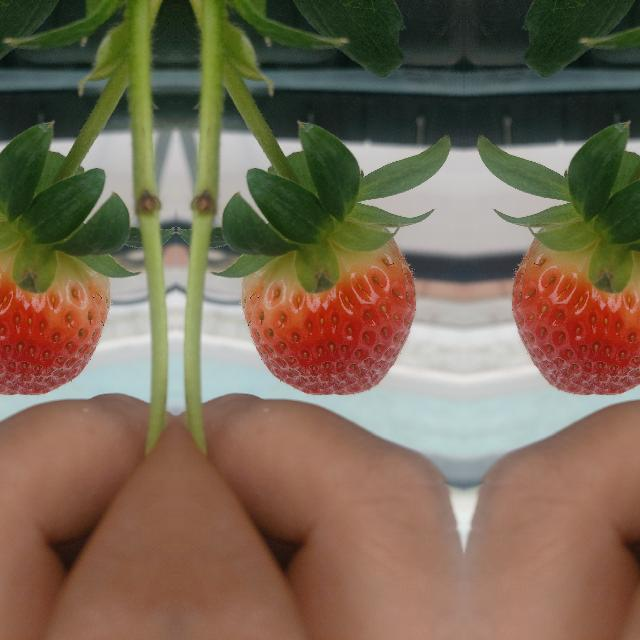Health_100: (240, 226, 414, 394), (511, 225, 640, 394), (0, 225, 110, 394)
